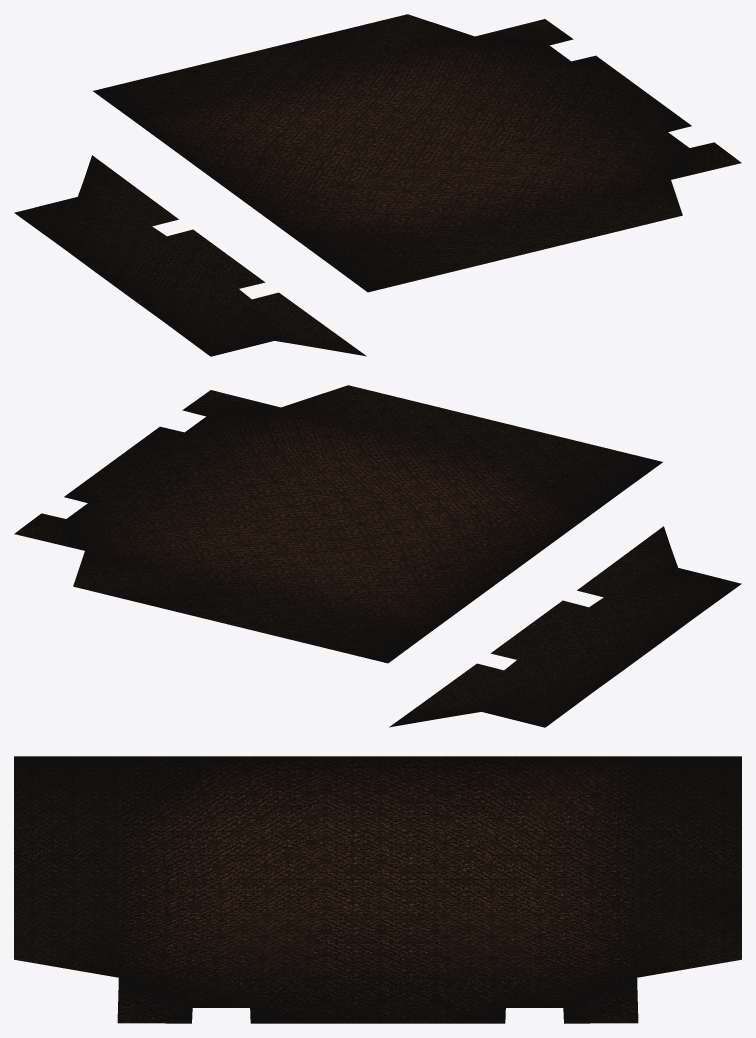
Rendered from test-ceiling-solid.glb.
The picture shows the model from 3 angles, top to bottom: view 1: azimuth 30°, elevation 25°; view 2: azimuth 150°, elevation 25°; view 3: azimuth 270°, elevation 25°; orthographic projection. The views are drawn at different scales.
Parts seen in each view (by area): view 1: ceiling; view 2: ceiling; view 3: ceiling.
Part boxes in pixels (<box>): ceiling: <box>14,14,741,356</box>; ceiling: <box>14,385,741,727</box>; ceiling: <box>14,756,741,1023</box>.
Bounding box in the file's own units: 329 × 37.99 × 295.
Materials: 1 (1 with a texture image).
